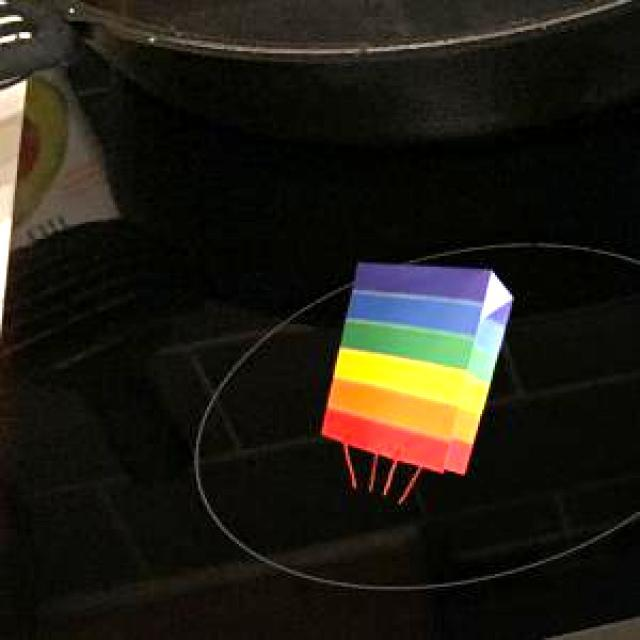Paper_Bag: (319, 260, 509, 470)
